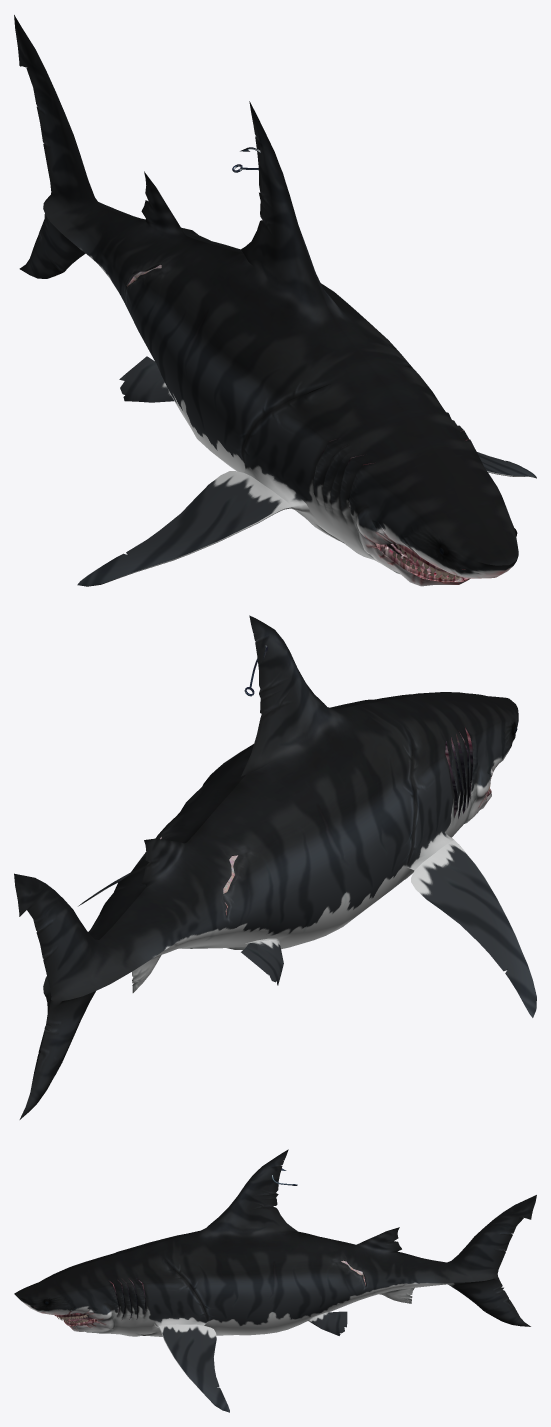
File: FierceShark.glb
3 renders of one model, top to bottom at view 1: azimuth 30°, elevation 25°; view 2: azimuth 150°, elevation 25°; view 3: azimuth 270°, elevation 25°, orthographic. The views are drawn at different scales.
Parts seen in each view (by area): view 1: ThanatosShark; view 2: ThanatosShark; view 3: ThanatosShark.
Boxes of the visible parts, <box> form: ThanatosShark: <box>14,15,536,586</box>; ThanatosShark: <box>14,615,536,1119</box>; ThanatosShark: <box>14,1149,536,1412</box>.
Size of the model in its own units: 3.9 by 3.18 by 7.35.
Materials: 3 (3 with a texture image).
